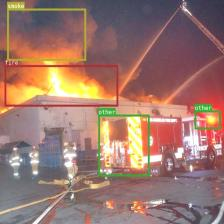fire: (4, 65, 118, 106)
smoke: (6, 8, 86, 60)
